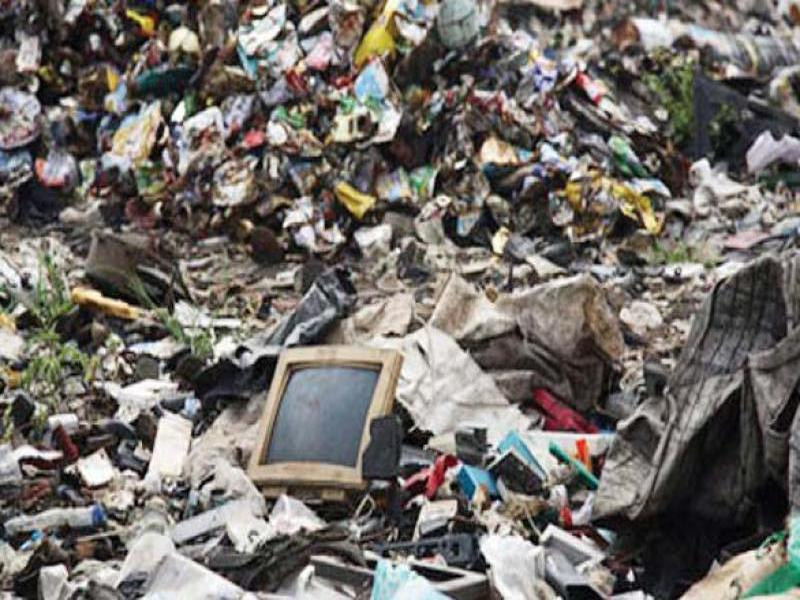tv_pc: (246, 341, 408, 495)
